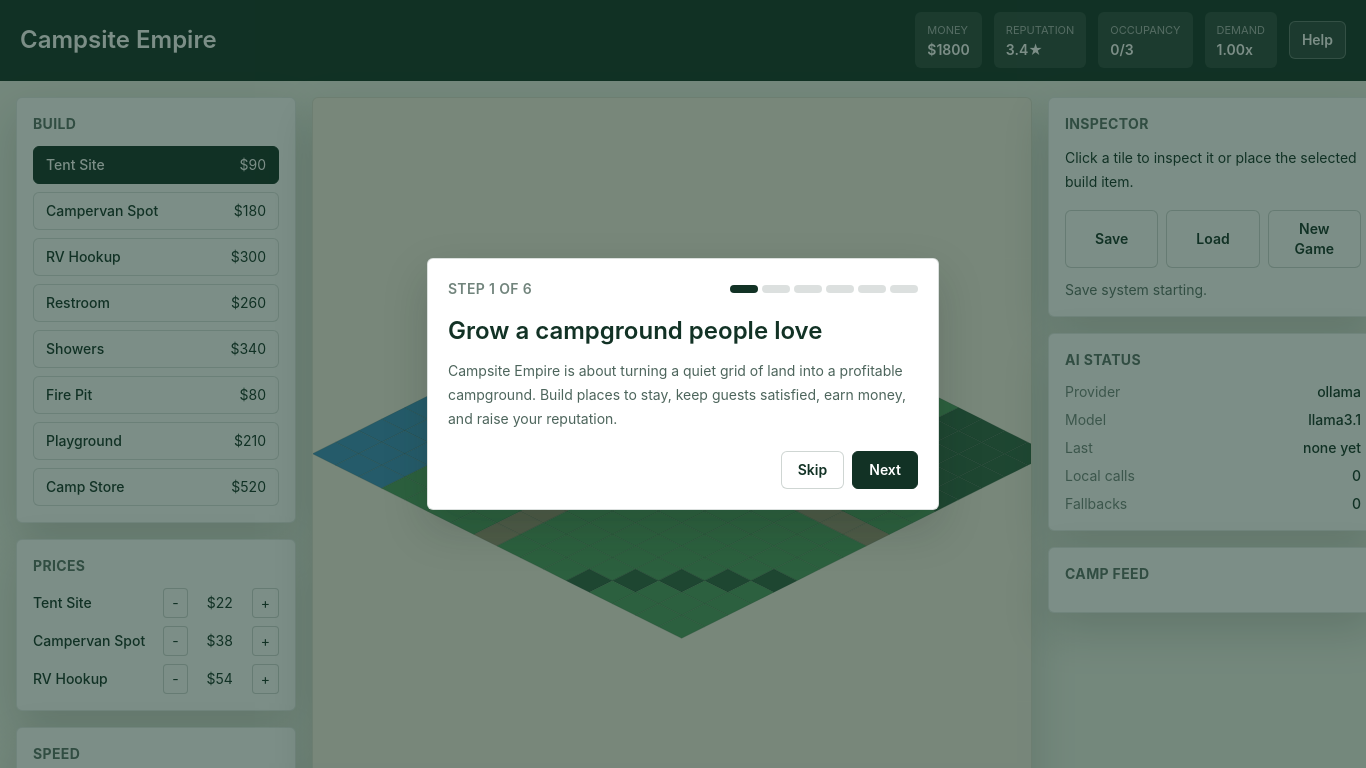
Test case: App UI › advances through tutorial topics and updates progress
Expected: the dialog "Grow a campground people love" is shown, [427, 258, 939, 510]
Step 1. Click the button "Next" → (885, 470), box [852, 451, 918, 489]
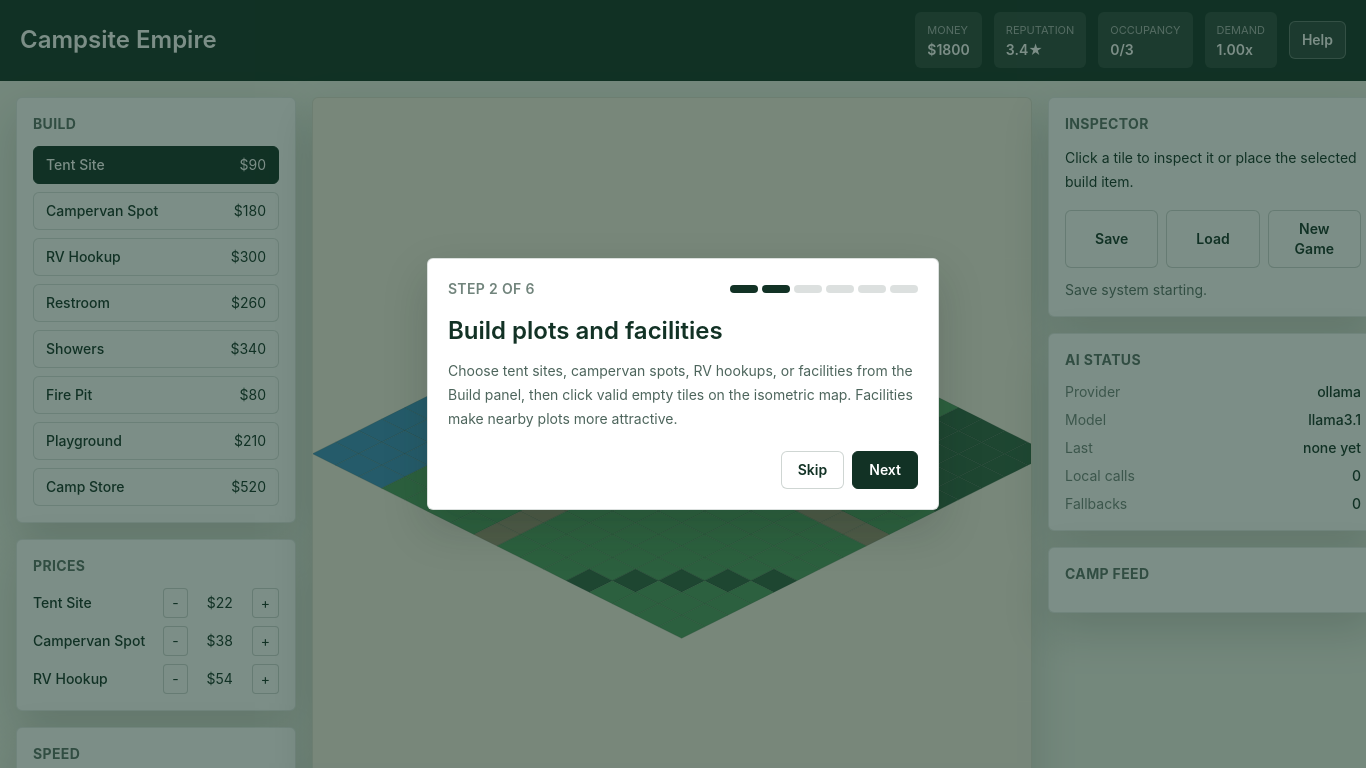
Now the dialog "Build plots and facilities" is shown, box [427, 258, 939, 510]
Now the text "Step 2 of 6" is shown, box [448, 279, 535, 299]
Step 2. Click the button "Next" → (885, 470), box [852, 451, 918, 489]
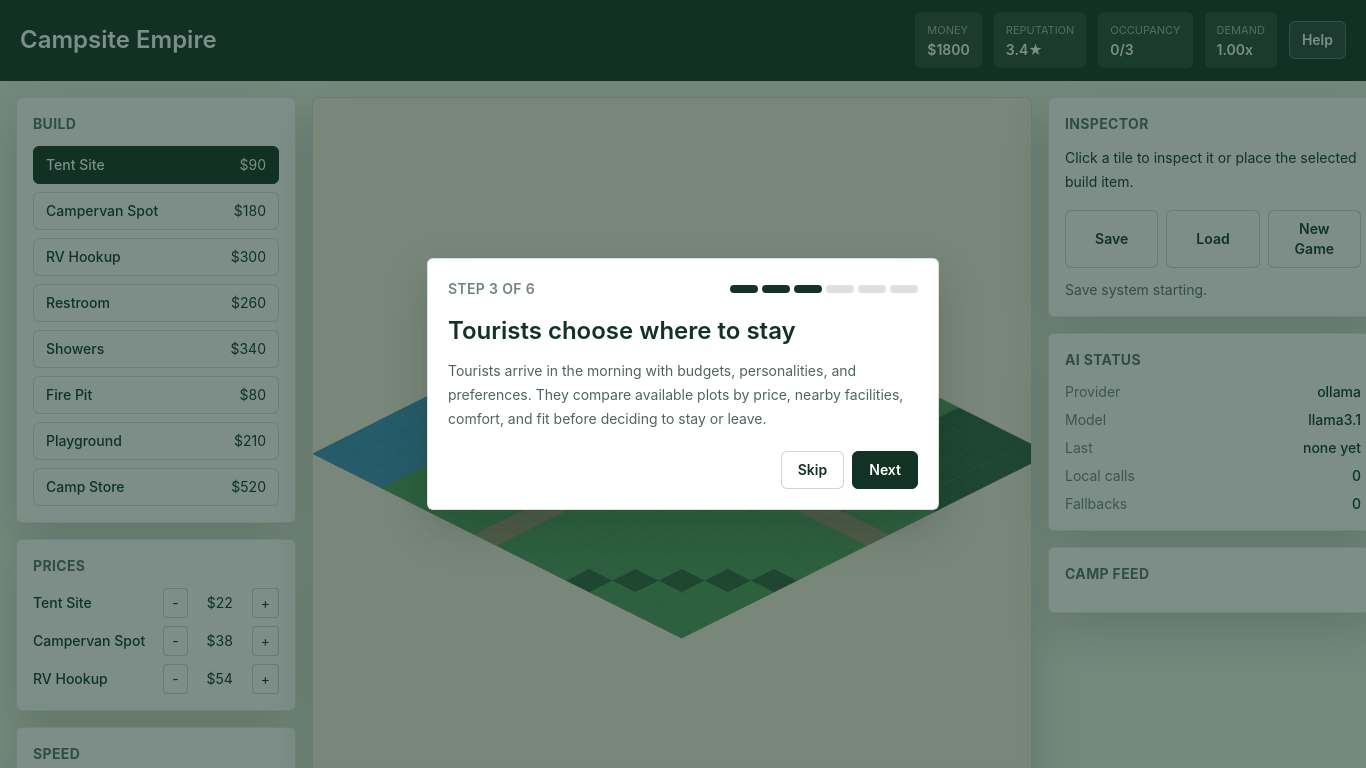
Now the dialog "Tourists choose where to stay" is shown, box [427, 258, 939, 510]
Step 3. Click the button "Next" → (885, 470), box [852, 451, 918, 489]
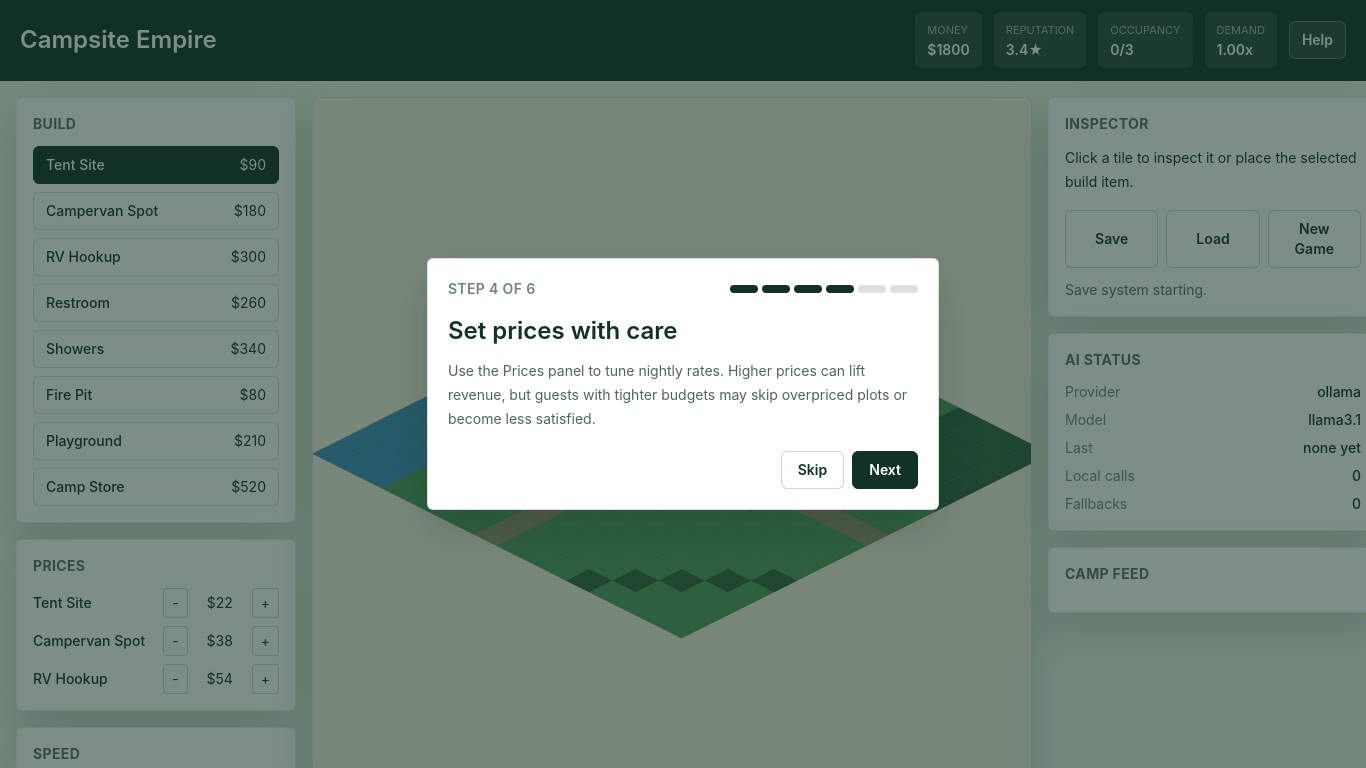
Now the dialog "Set prices with care" is shown, box [427, 258, 939, 510]
Step 4. Click the button "Next" → (885, 470), box [852, 451, 918, 489]
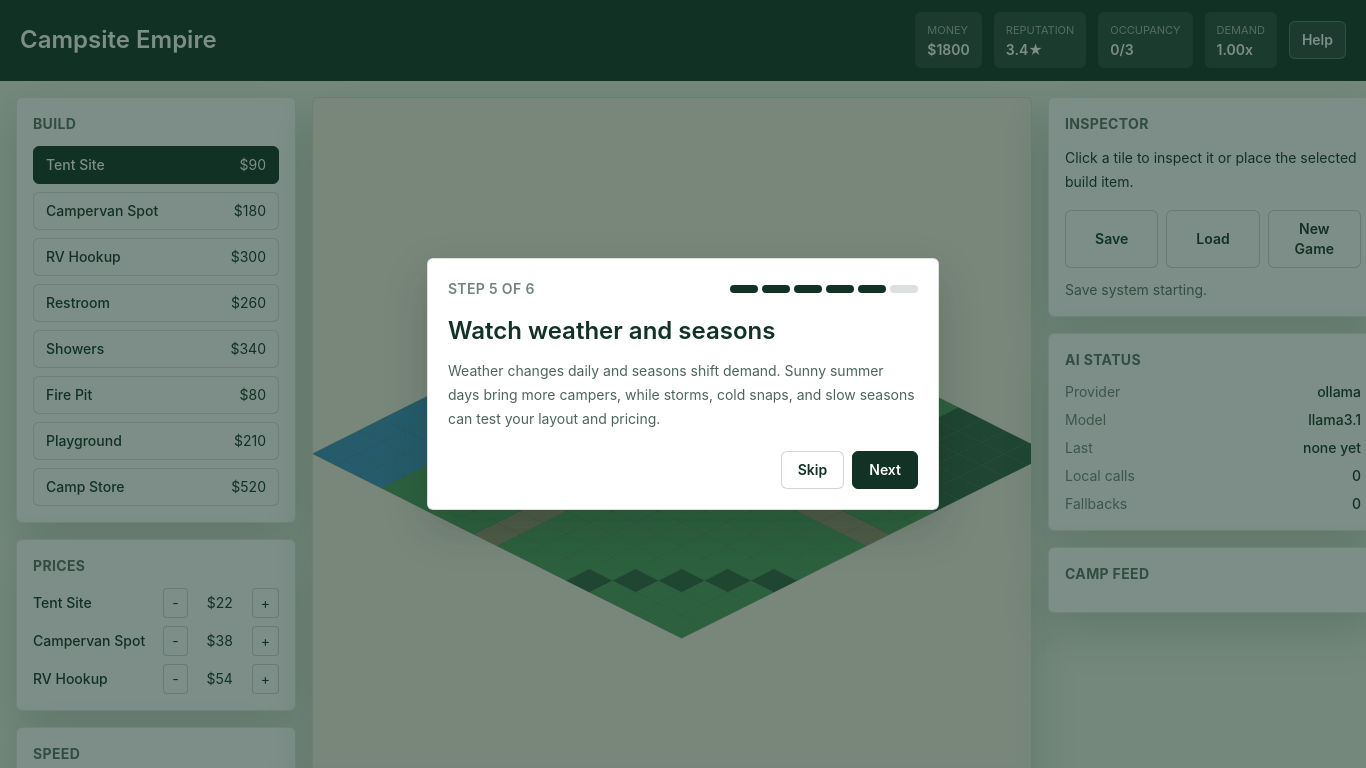
Now the dialog "Watch weather and seasons" is shown, box [427, 258, 939, 510]
Step 5. Click the button "Next" → (885, 470), box [852, 451, 918, 489]
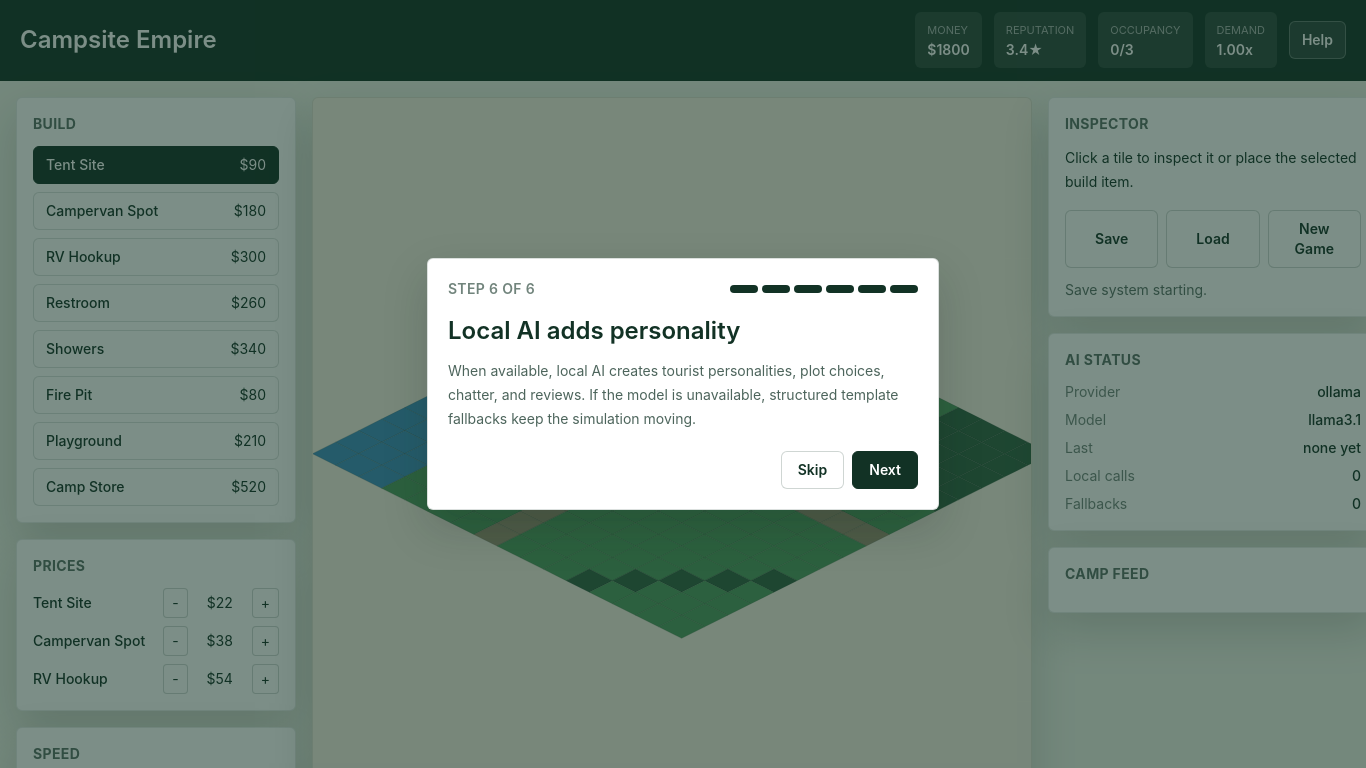
Now the dialog "Local AI adds personality" is shown, box [427, 258, 939, 510]
Now the text "Step 6 of 6" is shown, box [448, 279, 535, 299]
Step 6. Click the button "Next" → (885, 470), box [852, 451, 918, 489]
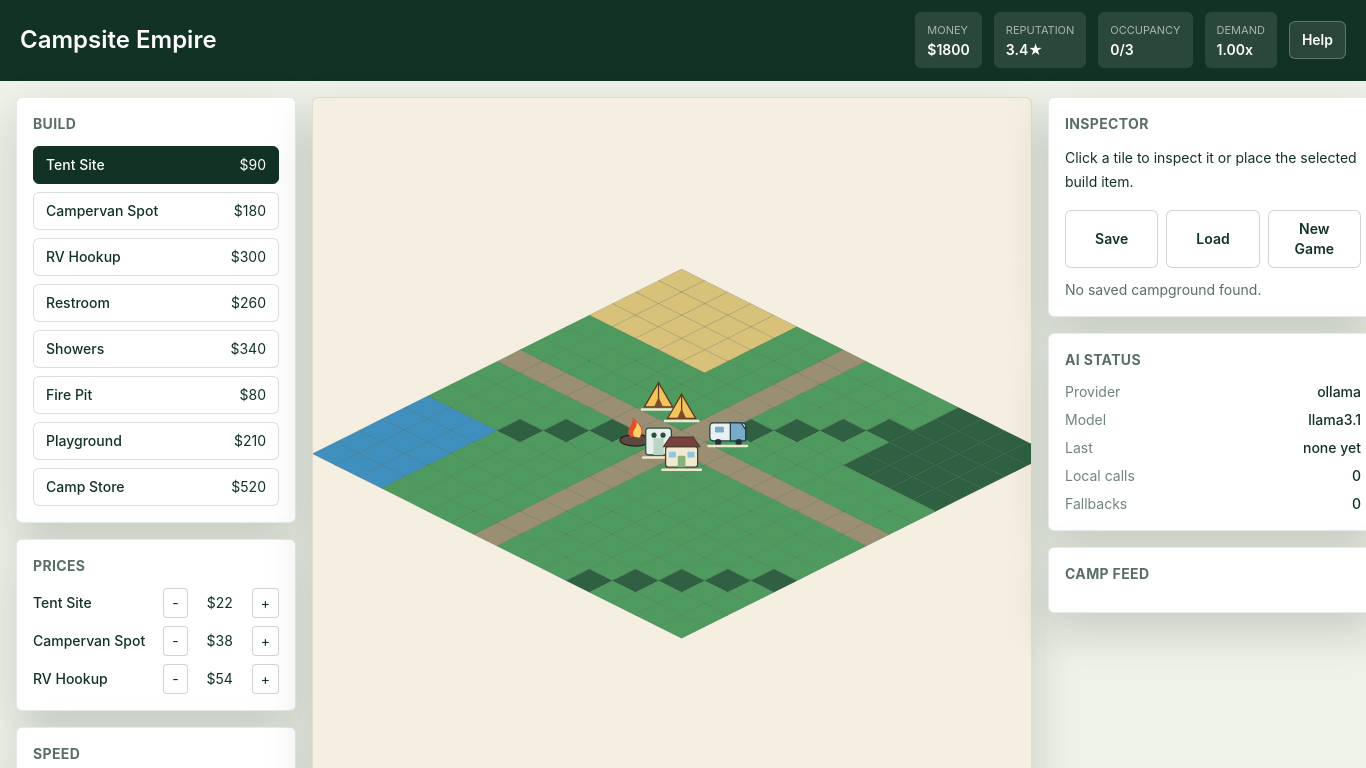
Now the dialog is gone
